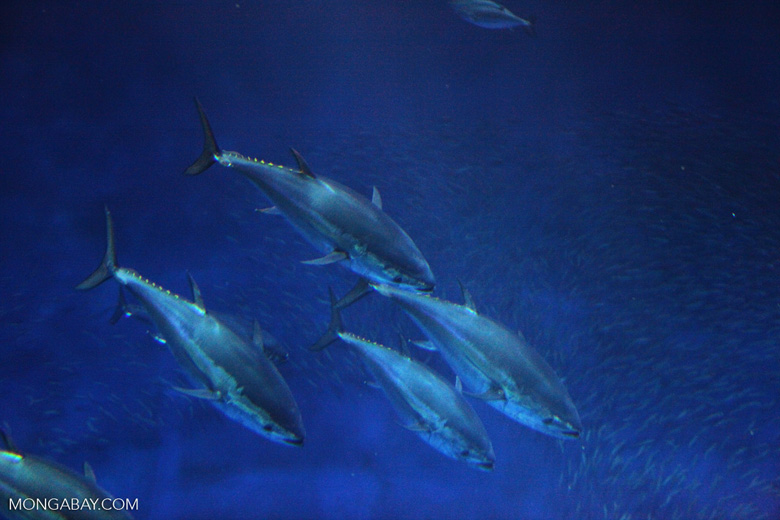Bluefina Tuna: (80, 202, 324, 472), (188, 93, 440, 305), (323, 292, 492, 479)
